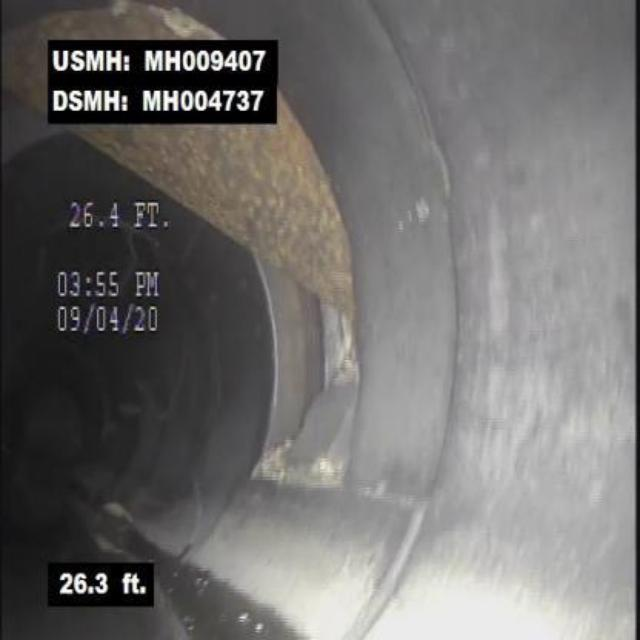Hole: (254, 312, 369, 495)
Utility intrusion: (178, 5, 369, 309)
